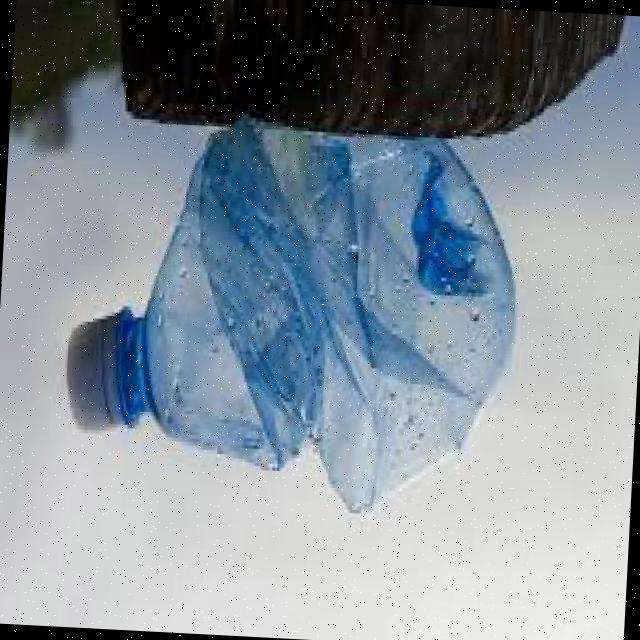bottle: (52, 100, 530, 523)
cap: (62, 318, 130, 438)
